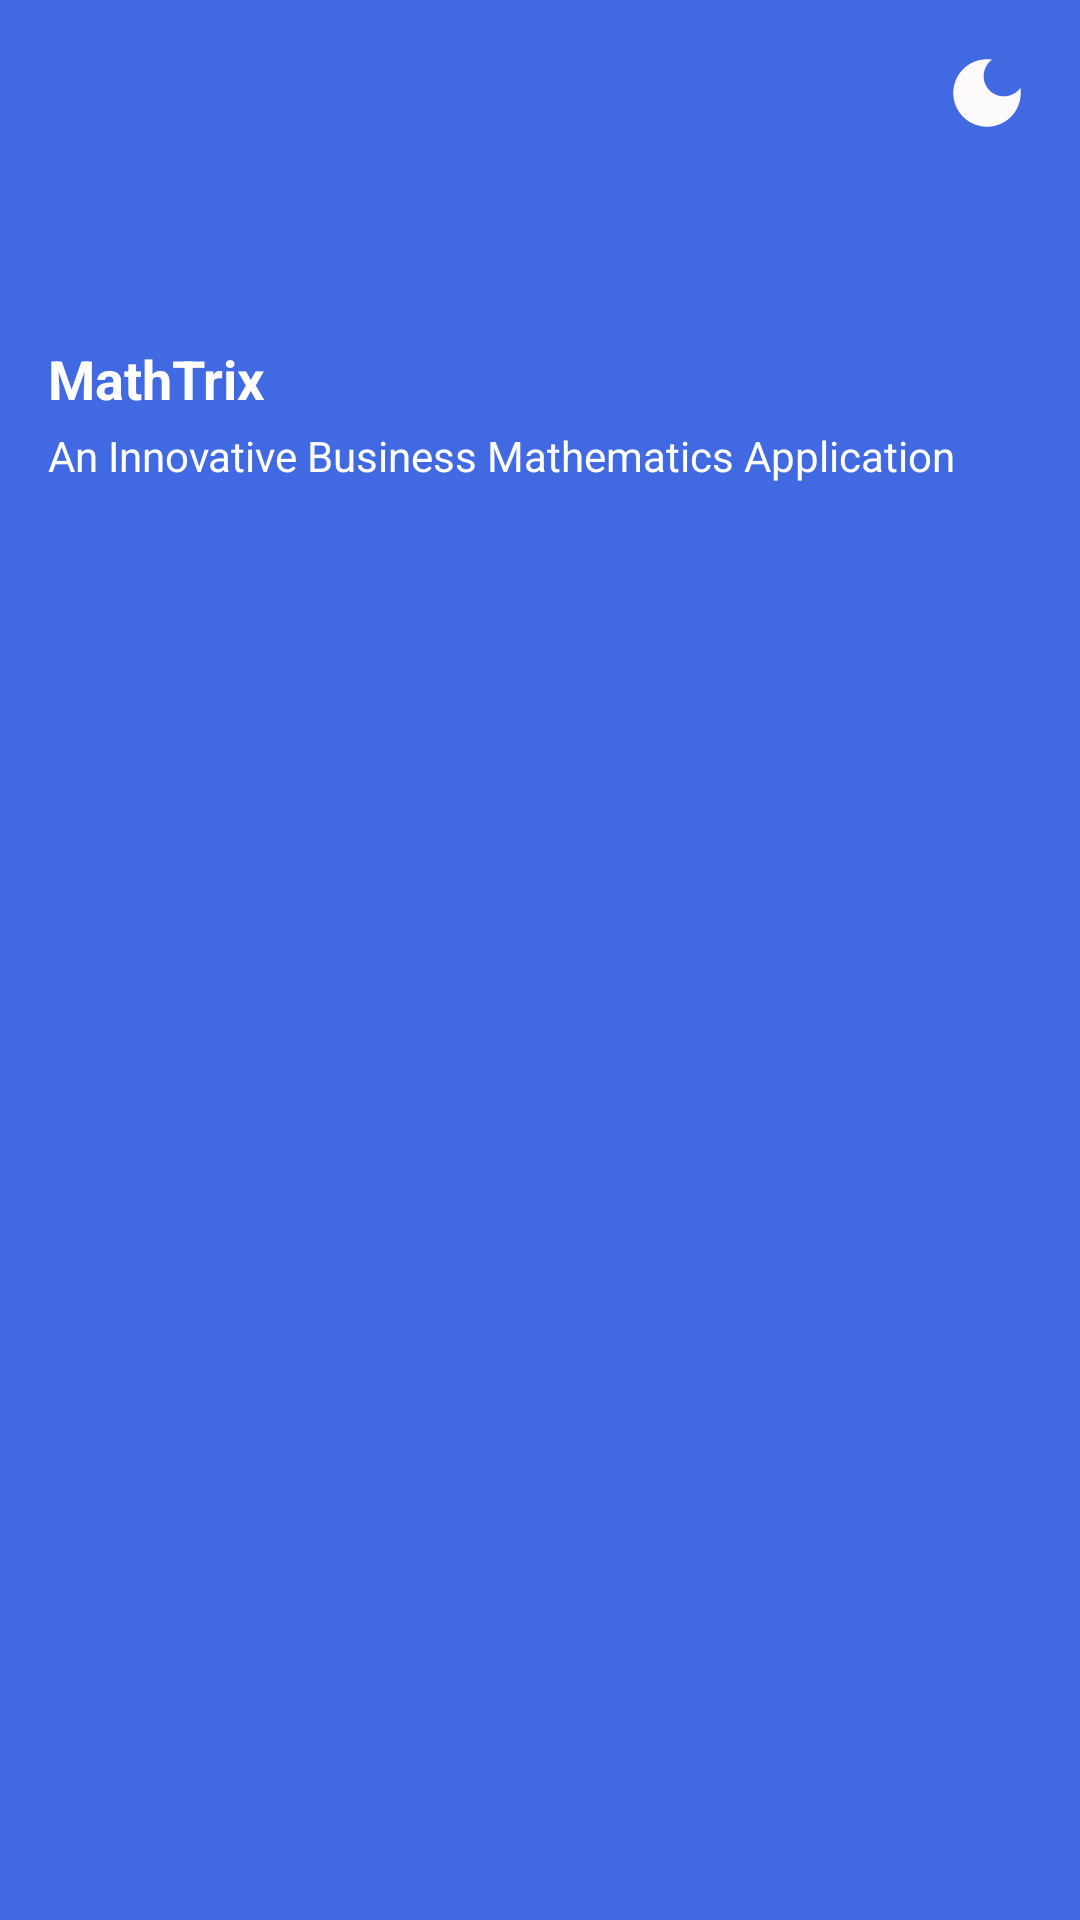

Screen size 1080w x 1920h. Icon name, then its center in pixels as (x=x, y=y):
mode: (x=987, y=93)
